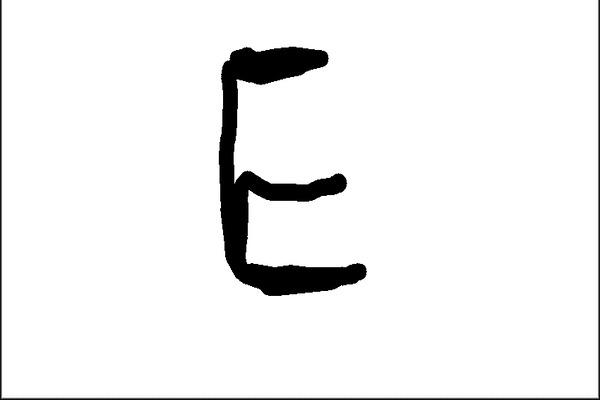E: (213, 40, 377, 297)
